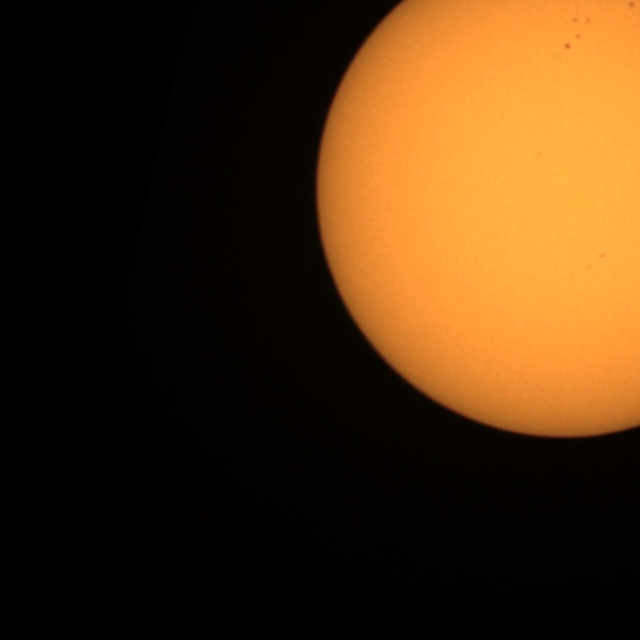sunspot: (568, 16, 592, 44), (563, 24, 585, 52), (584, 251, 607, 272), (571, 16, 591, 29), (626, 0, 638, 10), (598, 251, 608, 260), (562, 42, 572, 51)
